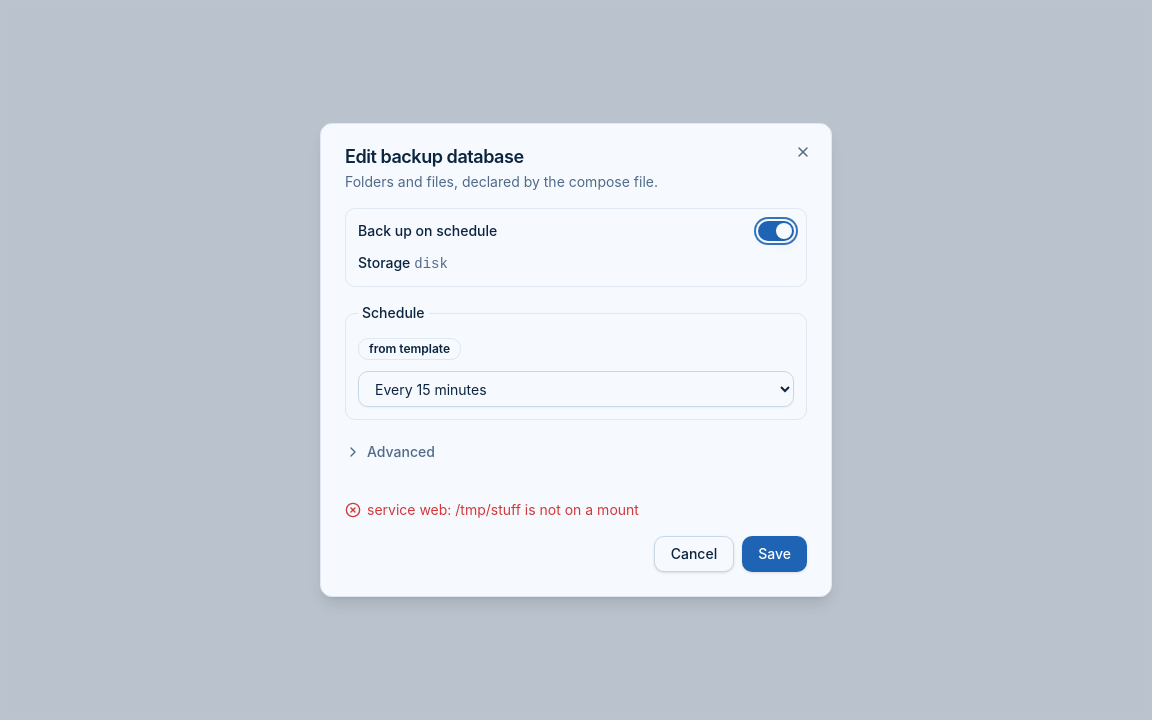
it: BackupEditDialog › shows why a save was refused in the dialog, and the compose file's exclusions
The width and height of the screenshot is (1152, 720).
Click the button "Advanced": (390, 452) [345,432,435,472]
(page scrolled)
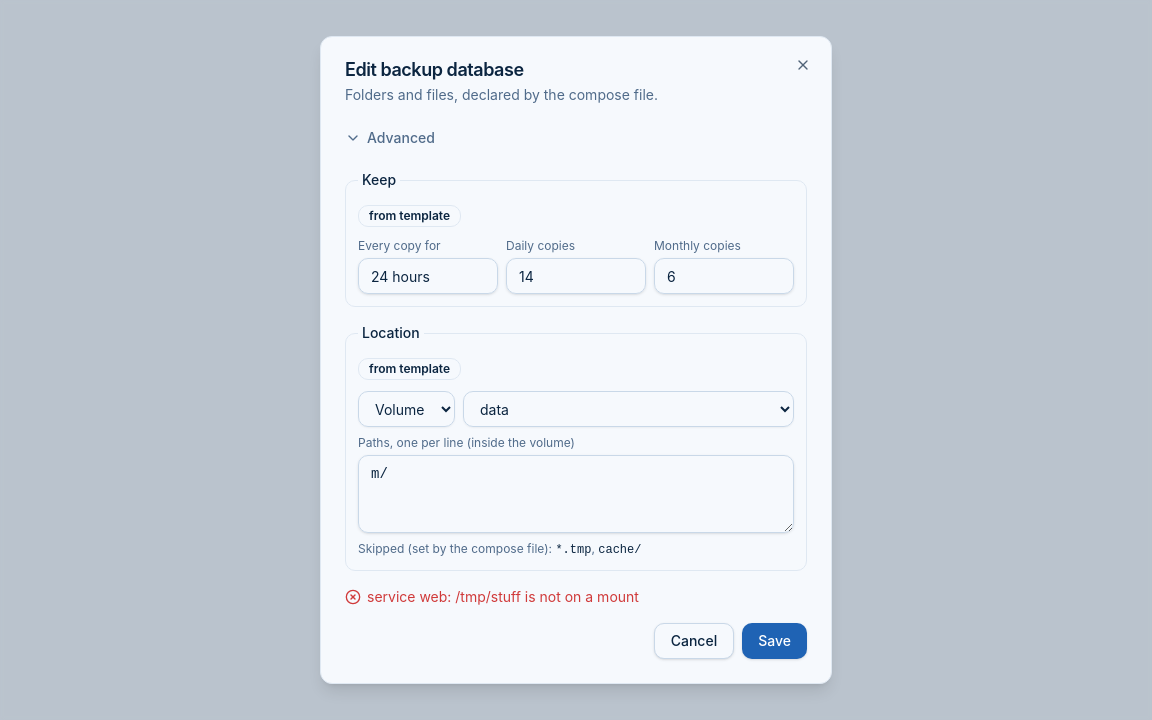
Expected: the text "service web: /tmp/stuff is not on a mount" is shown, [345,588,639,605]
Result: the text "Skipped (set by the compose file): *.tmp, cache/" is shown at [358,541,642,557]
